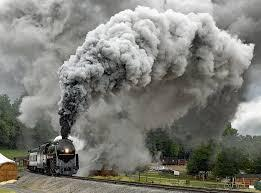smoke: (1, 1, 259, 119)
